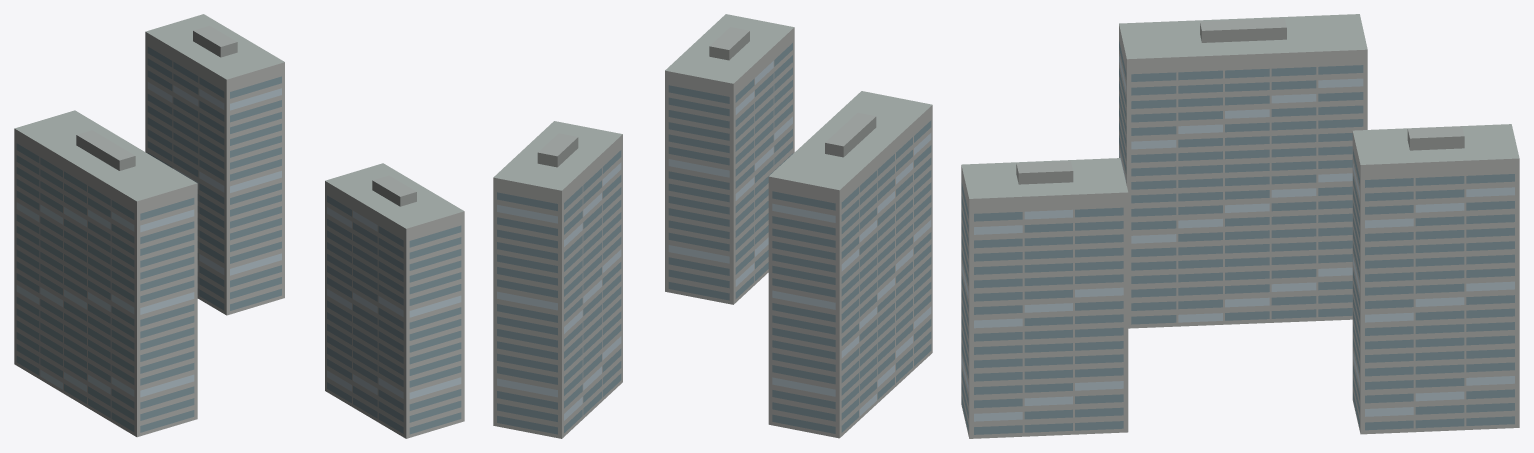
The model's file is apt-a11052201.glb.
The picture shows the model from 3 angles, left to right: view 1: azimuth 30°, elevation 25°; view 2: azimuth 150°, elevation 25°; view 3: azimuth 270°, elevation 25°; orthographic projection. The views are drawn at different scales.
Visible parts, largest first — view 1: apt-a11052201; view 2: apt-a11052201; view 3: apt-a11052201.
Boxes of the visible parts, x1=… form: apt-a11052201: x1=14, y1=14, x2=464, y2=438; apt-a11052201: x1=493, y1=14, x2=932, y2=438; apt-a11052201: x1=961, y1=14, x2=1519, y2=438.
Size of the model in its own units: 66.39 by 56 by 101.
